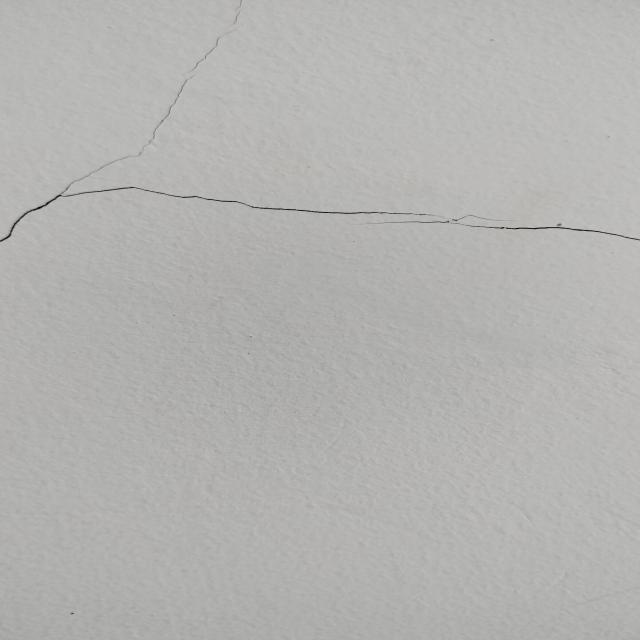Crack: (3, 178, 640, 246)
